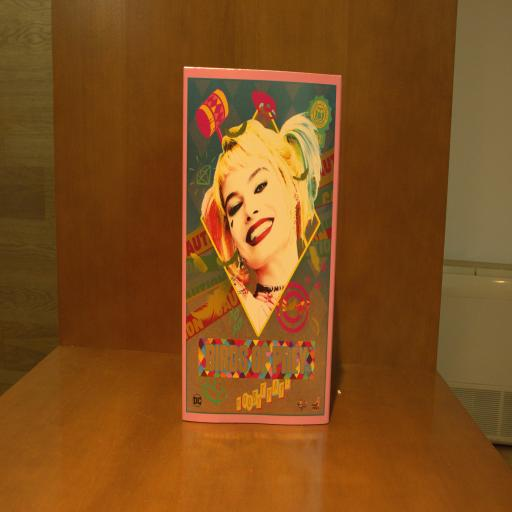Harley: (182, 64, 342, 428)
